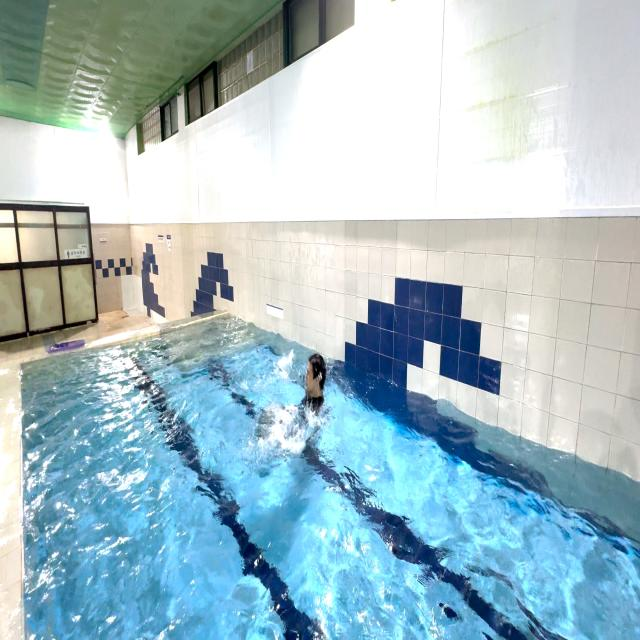Swimming: (254, 337, 334, 462)
